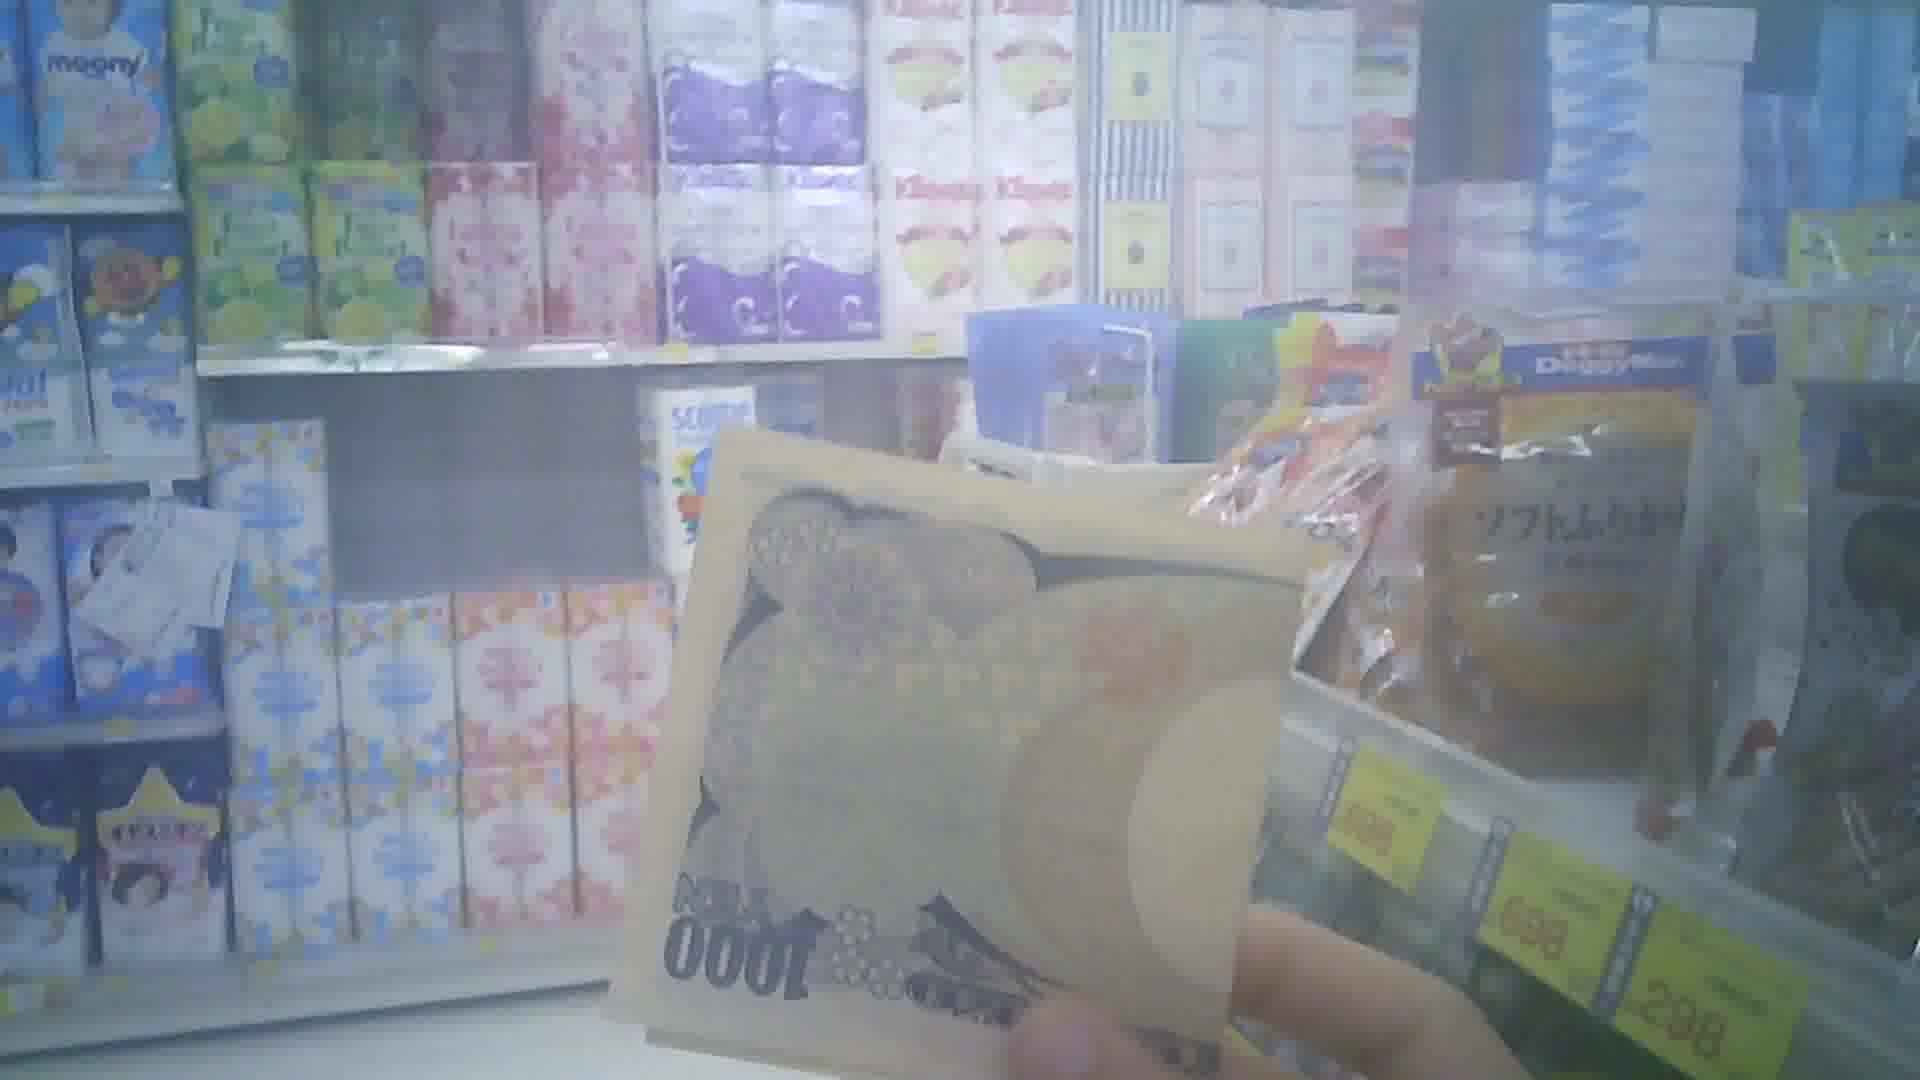1,000 Yen: (611, 410, 1255, 1077)
